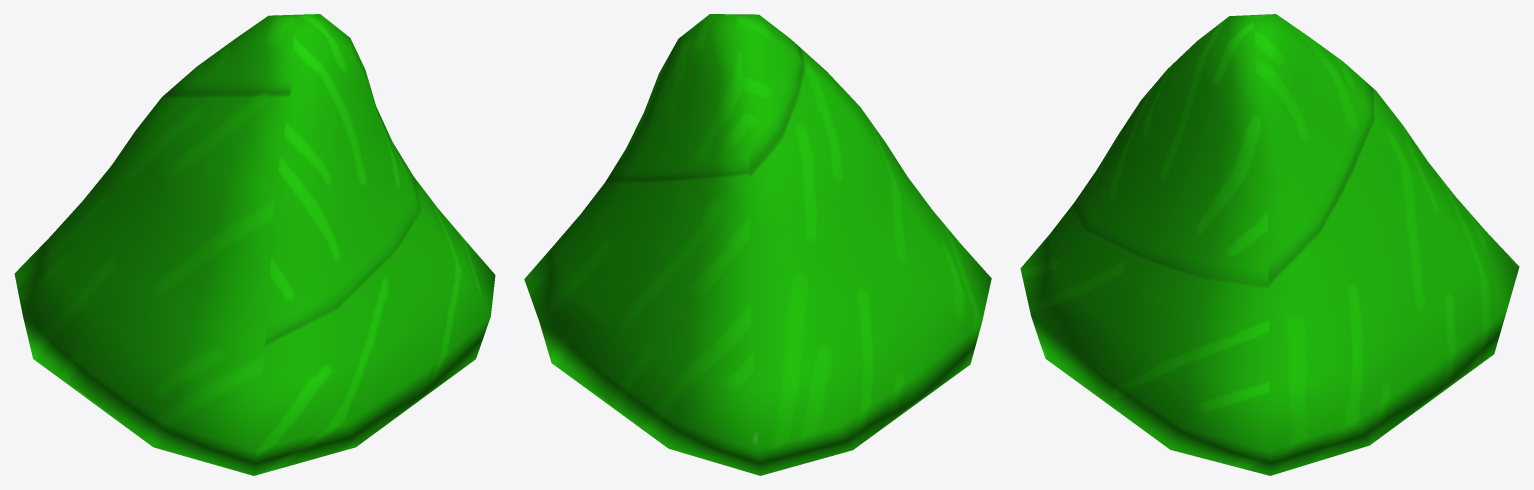
The model's file is zong.fbx.
3 renders of one model, left to right at view 1: azimuth 30°, elevation 25°; view 2: azimuth 150°, elevation 25°; view 3: azimuth 270°, elevation 25°, orthographic. The views are drawn at different scales.
Parts seen in each view (by area): view 1: zong; view 2: zong; view 3: zong.
Boxes of the visible parts, <box> form: zong: <box>14,14,495,475</box>; zong: <box>524,14,991,475</box>; zong: <box>1020,14,1519,475</box>.
Bounding box in the file's own units: 0.412 × 0.3475 × 0.424.
